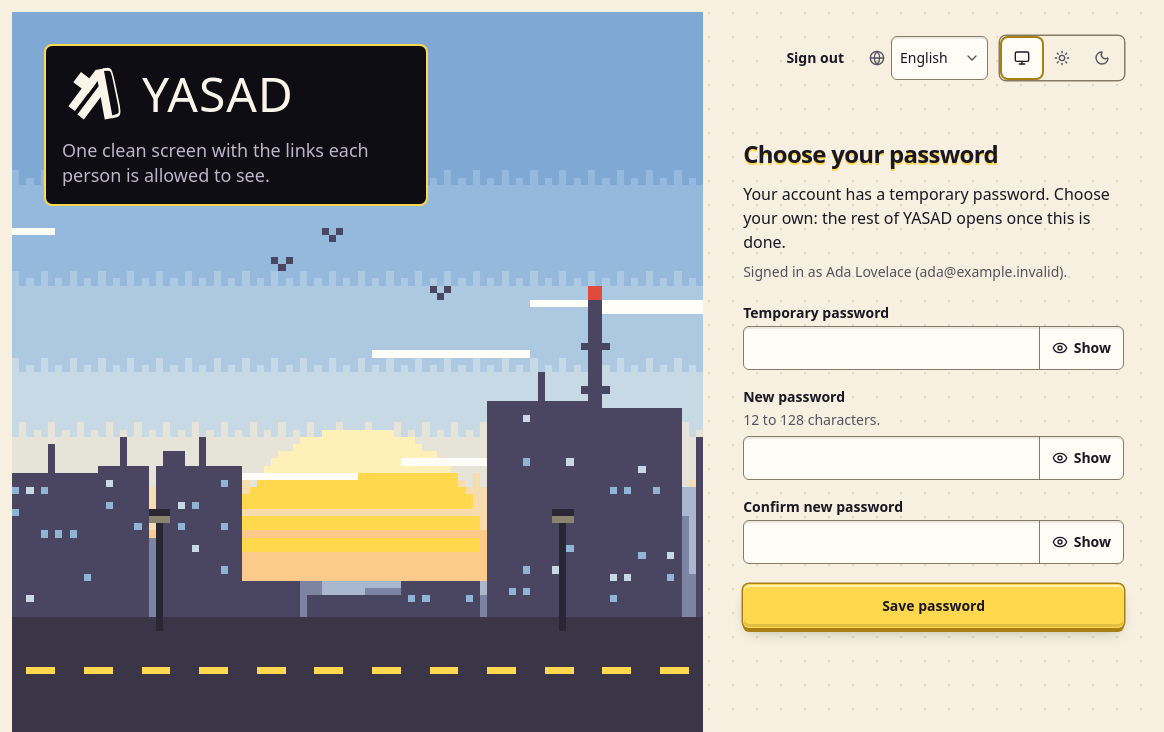
Test: App › asks a user with a temporary password to change it, then shows home
The image size is (1164, 732).
expect the heading "Choose your password" is shown: met, box [743,137,998,170]
Step 1. Type "temporary password" into the password field labelled "Temporary password" → x=891, y=348, box [744,327,1039,369]
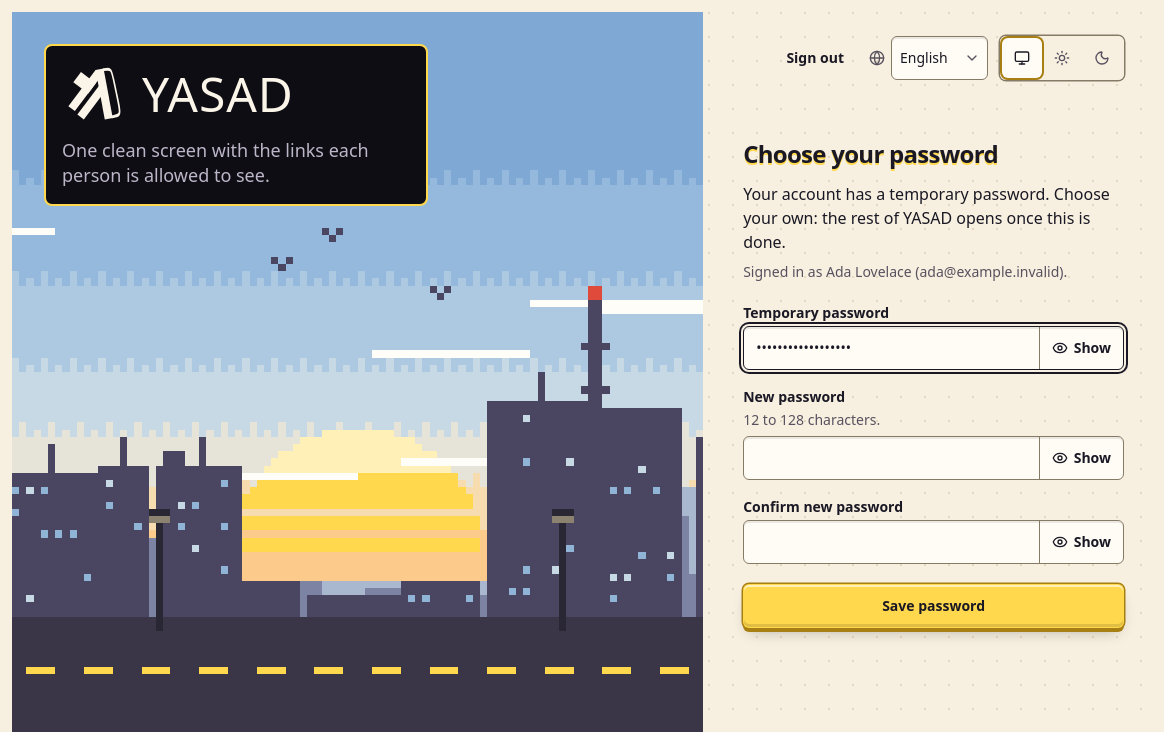
Step 2. Type "a brand new passphrase" into the password field labelled "New password" → x=891, y=458, box [744,437,1039,479]
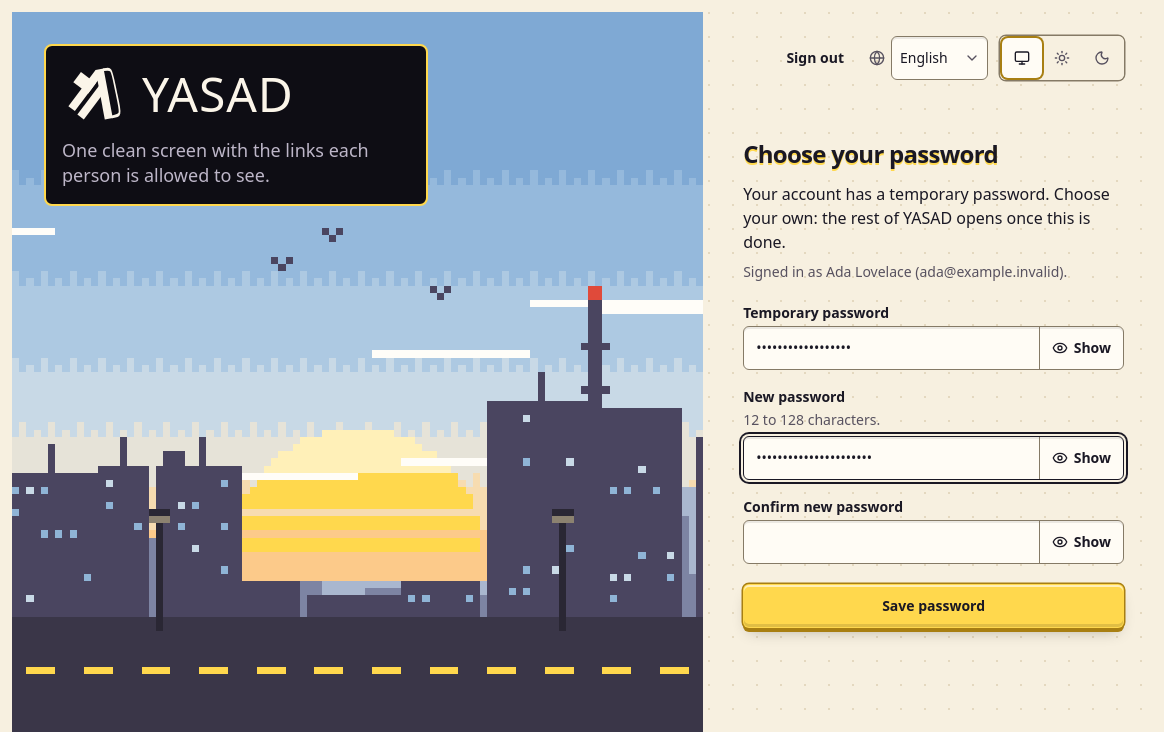
Step 3. Type "a brand new passphrase" into the password field labelled "Confirm new password" → x=891, y=542, box [744,521,1039,563]
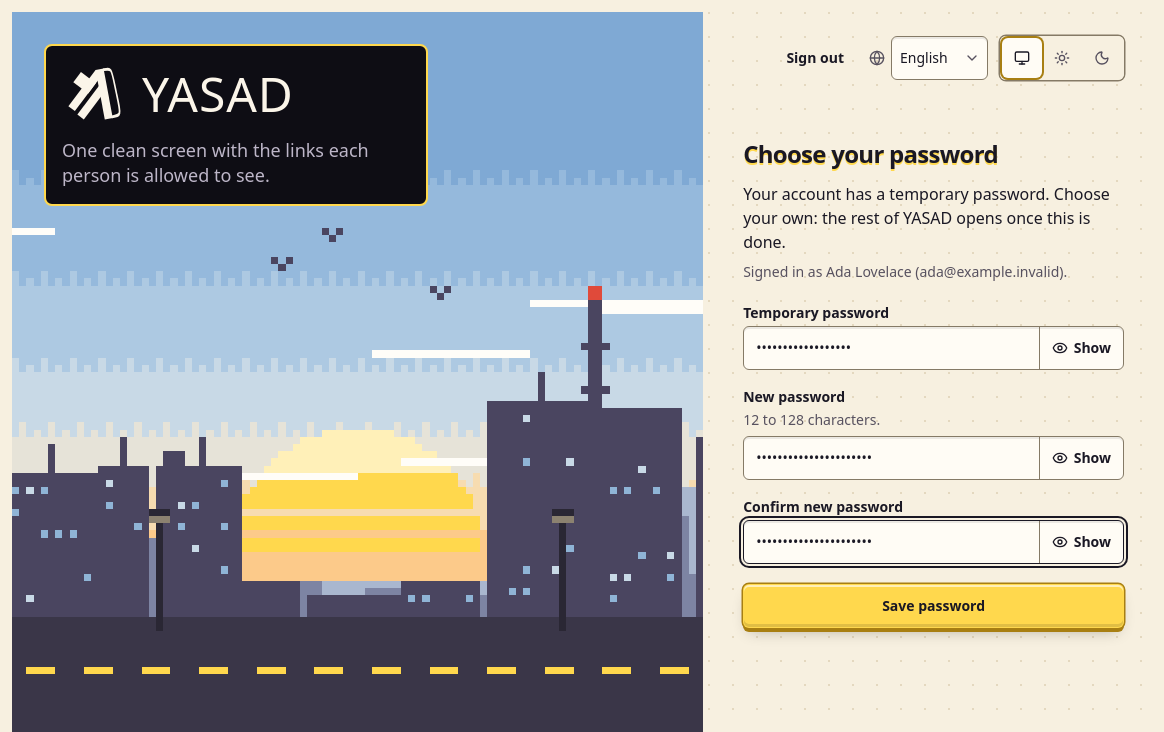
Step 4. Click the button "Save password" → x=934, y=606, box [743,584,1124,628]
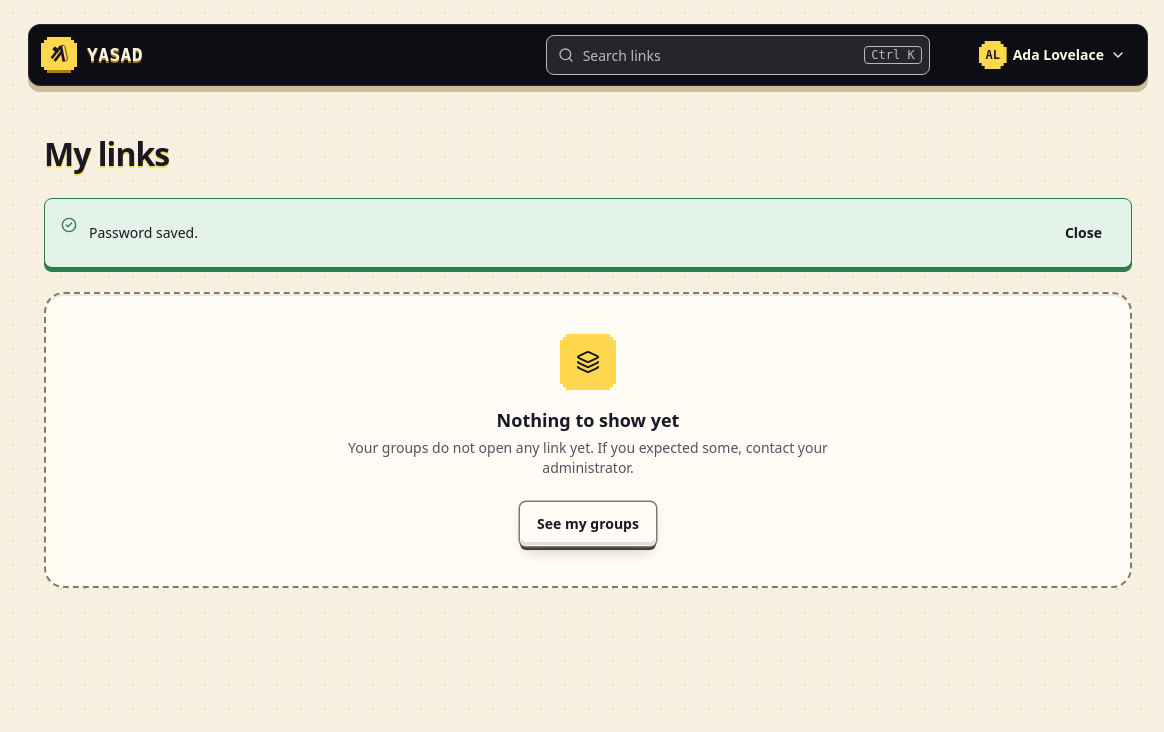
expect the element showing "Password saved. Close" is shown: met, box [44,198,1132,268]
